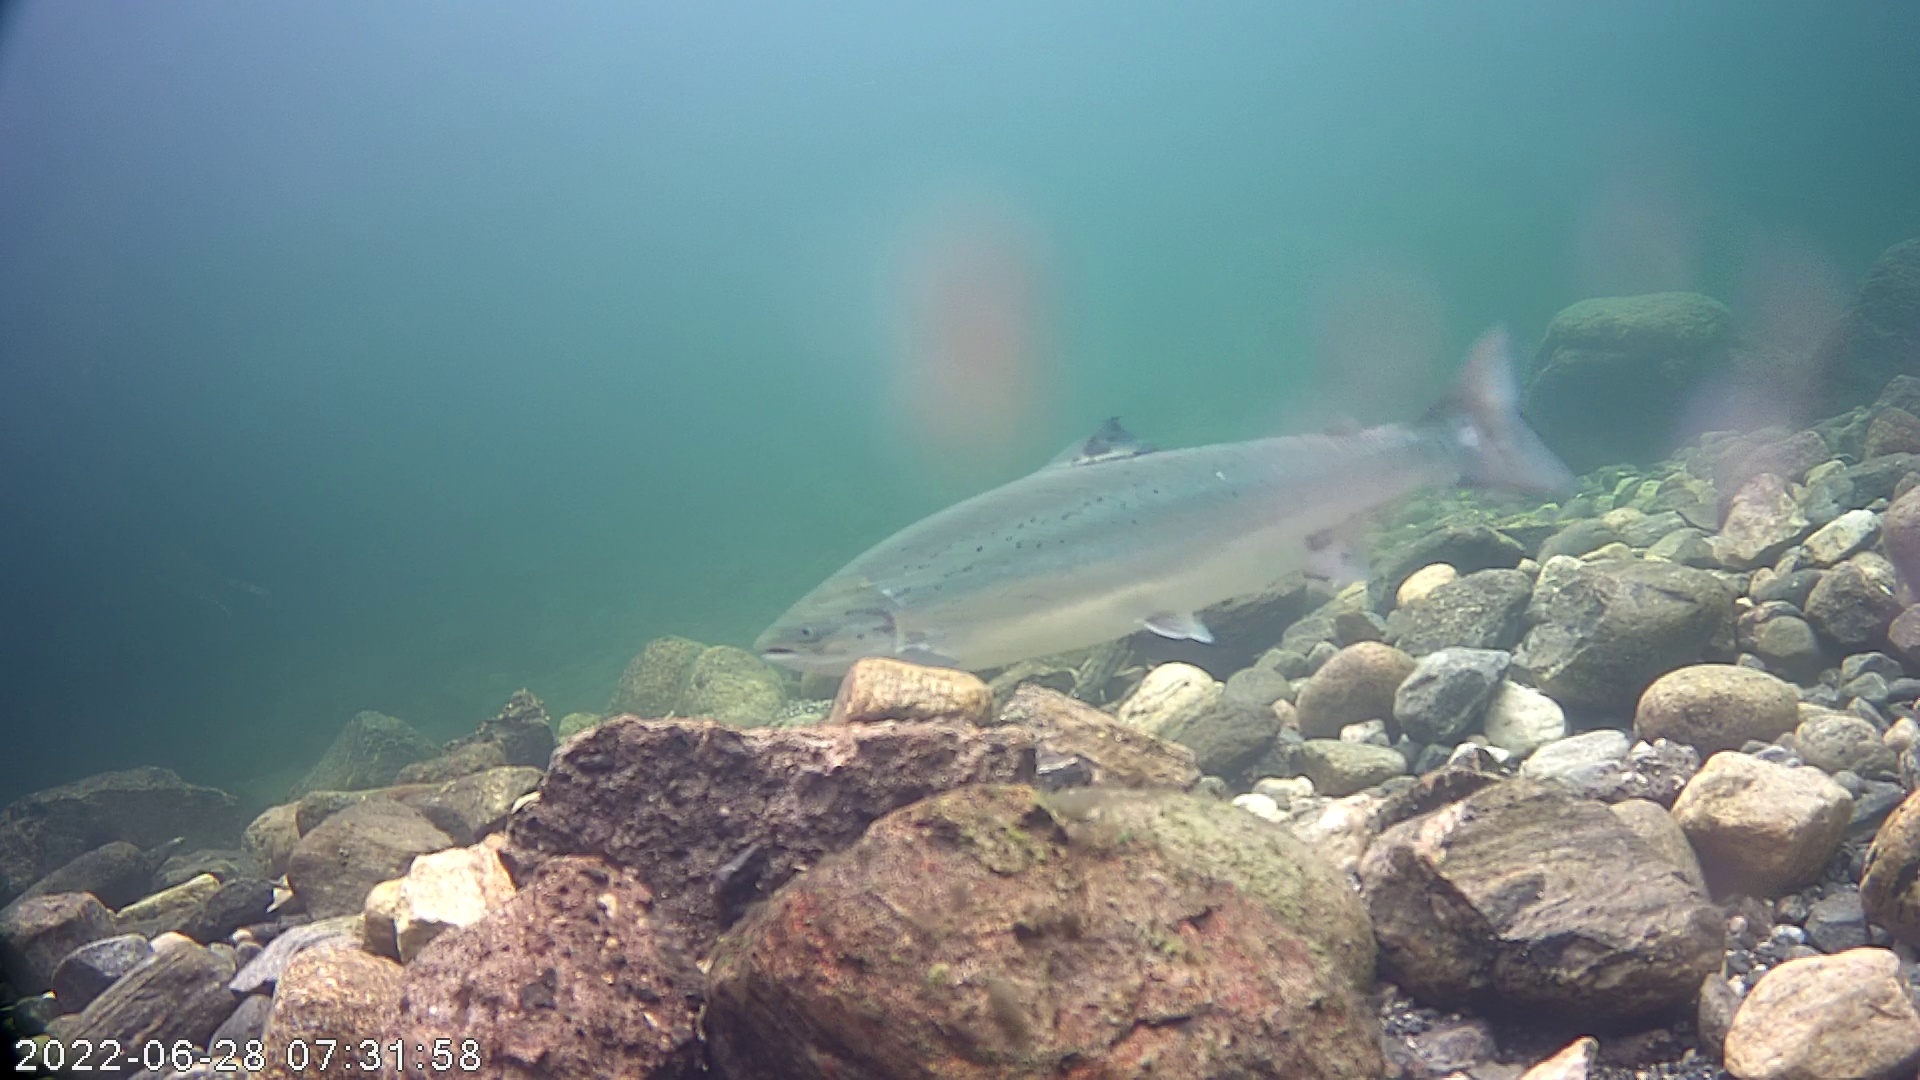salmon: (735, 258, 1601, 705)
